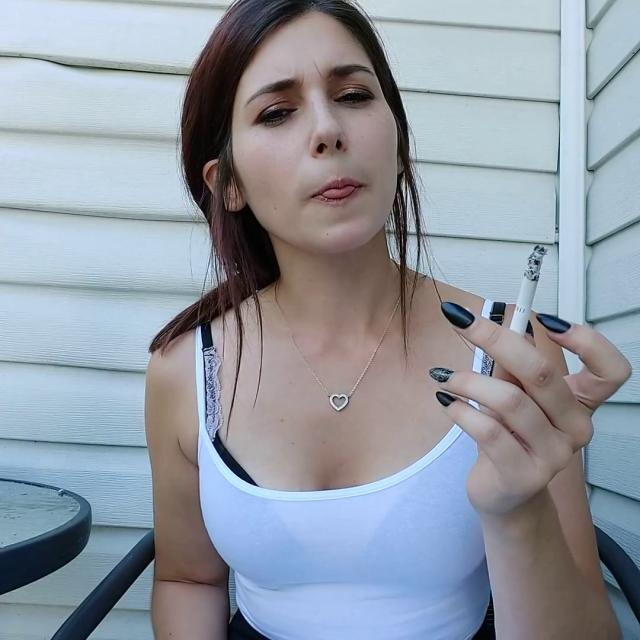Cigarette: (510, 244, 547, 337)
Hand: (428, 301, 638, 529)
Mouth: (303, 178, 371, 207)
